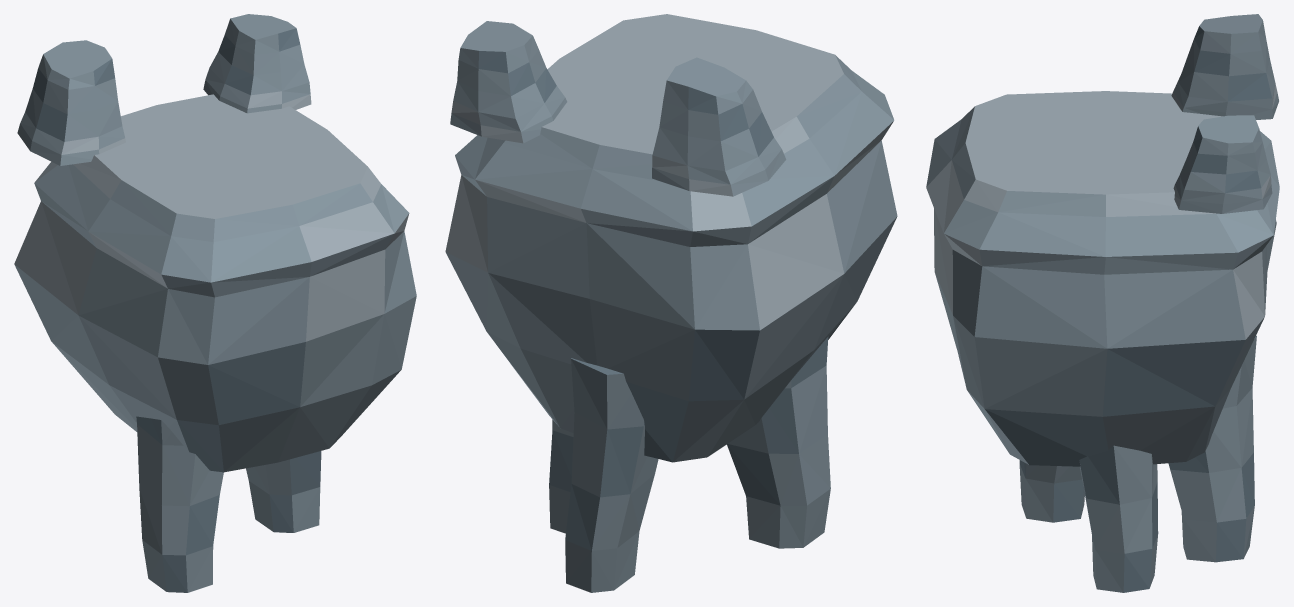
File: geo02_medium_cloud_sea_island_v2.glb
3 views of the same model, side by side, from view 1: azimuth 30°, elevation 25°; view 2: azimuth 150°, elevation 25°; view 3: azimuth 270°, elevation 25° (orthographic). The views are drawn at different scales.
Visible parts, largest first — view 1: GEO02_Terrain_Medium_Court_Island_v2; view 2: GEO02_Terrain_Medium_Court_Island_v2; view 3: GEO02_Terrain_Medium_Court_Island_v2.
Boxes of the visible parts, <box> form: GEO02_Terrain_Medium_Court_Island_v2: <box>14,14,416,592</box>; GEO02_Terrain_Medium_Court_Island_v2: <box>445,14,897,592</box>; GEO02_Terrain_Medium_Court_Island_v2: <box>926,14,1279,592</box>.
Bounding box in the file's own units: 12 × 18 × 12.
